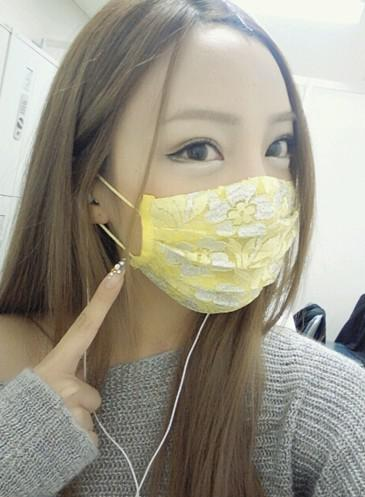OK: (115, 112, 307, 304)
